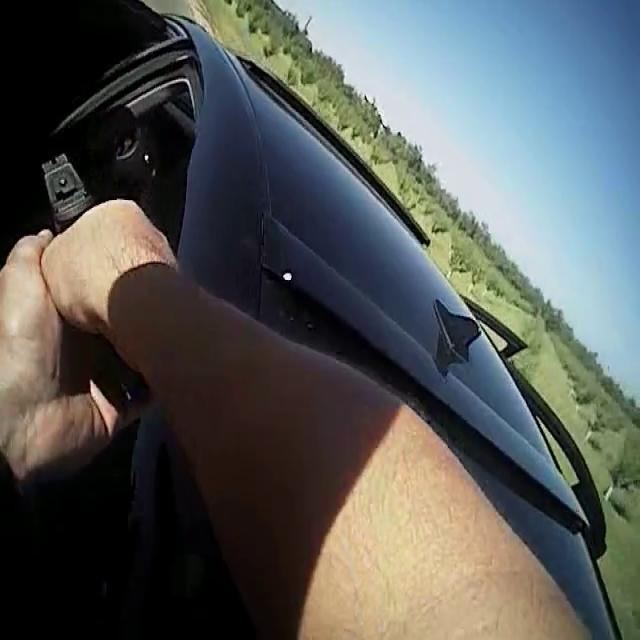gun: (24, 132, 106, 374)
